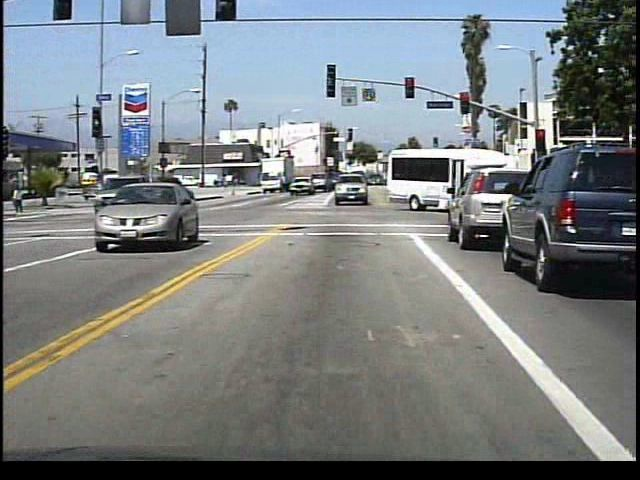person: (11, 182, 31, 217)
